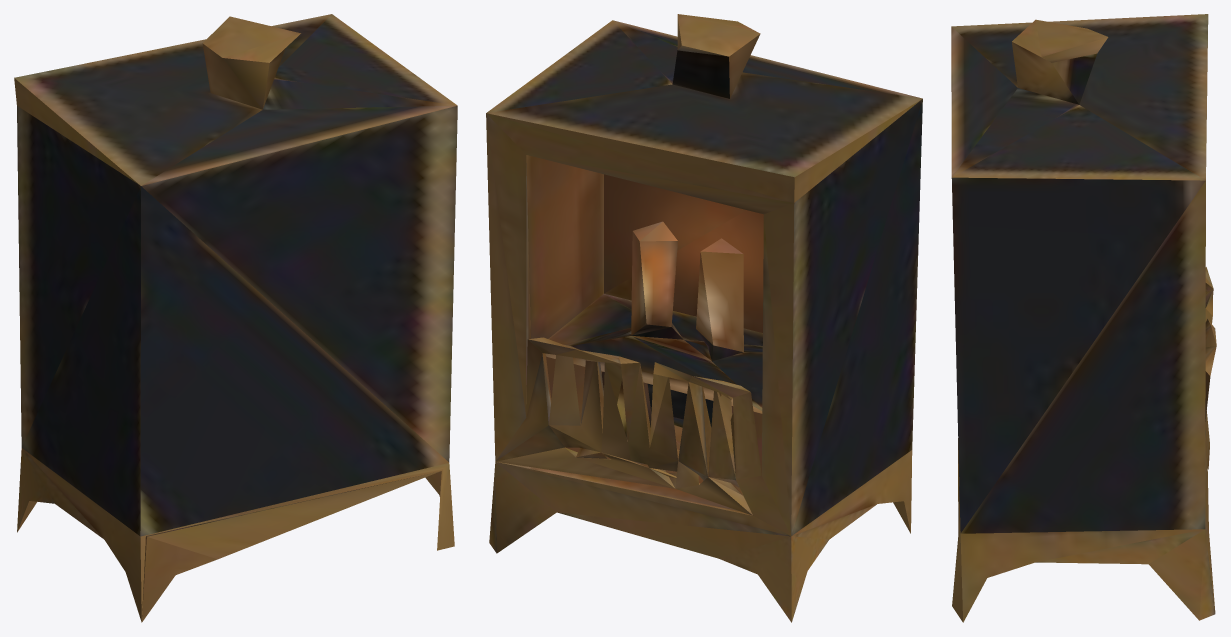
File: mj-electric-heater.lod1.glb
The picture shows the model from 3 angles, left to right: view 1: azimuth 30°, elevation 25°; view 2: azimuth 150°, elevation 25°; view 3: azimuth 270°, elevation 25°; orthographic projection. The views are drawn at different scales.
Visible parts, largest first — view 1: mj-electric-heater; view 2: mj-electric-heater; view 3: mj-electric-heater.
Part boxes in pixels (<box>): mj-electric-heater: <box>14,14,457,622</box>; mj-electric-heater: <box>486,14,922,622</box>; mj-electric-heater: <box>951,14,1216,622</box>.
Size of the model in its own units: 0.4536 by 0.6967 by 0.3274.
2 materials, 2 textured.
